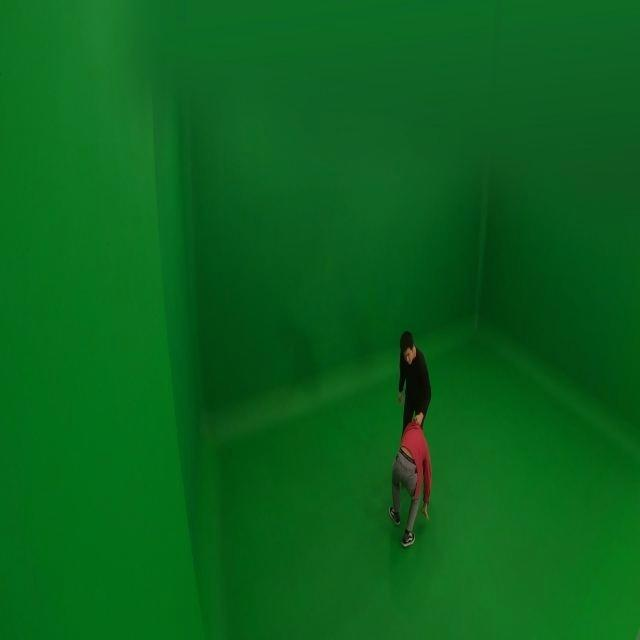fight: (389, 328, 441, 546)
